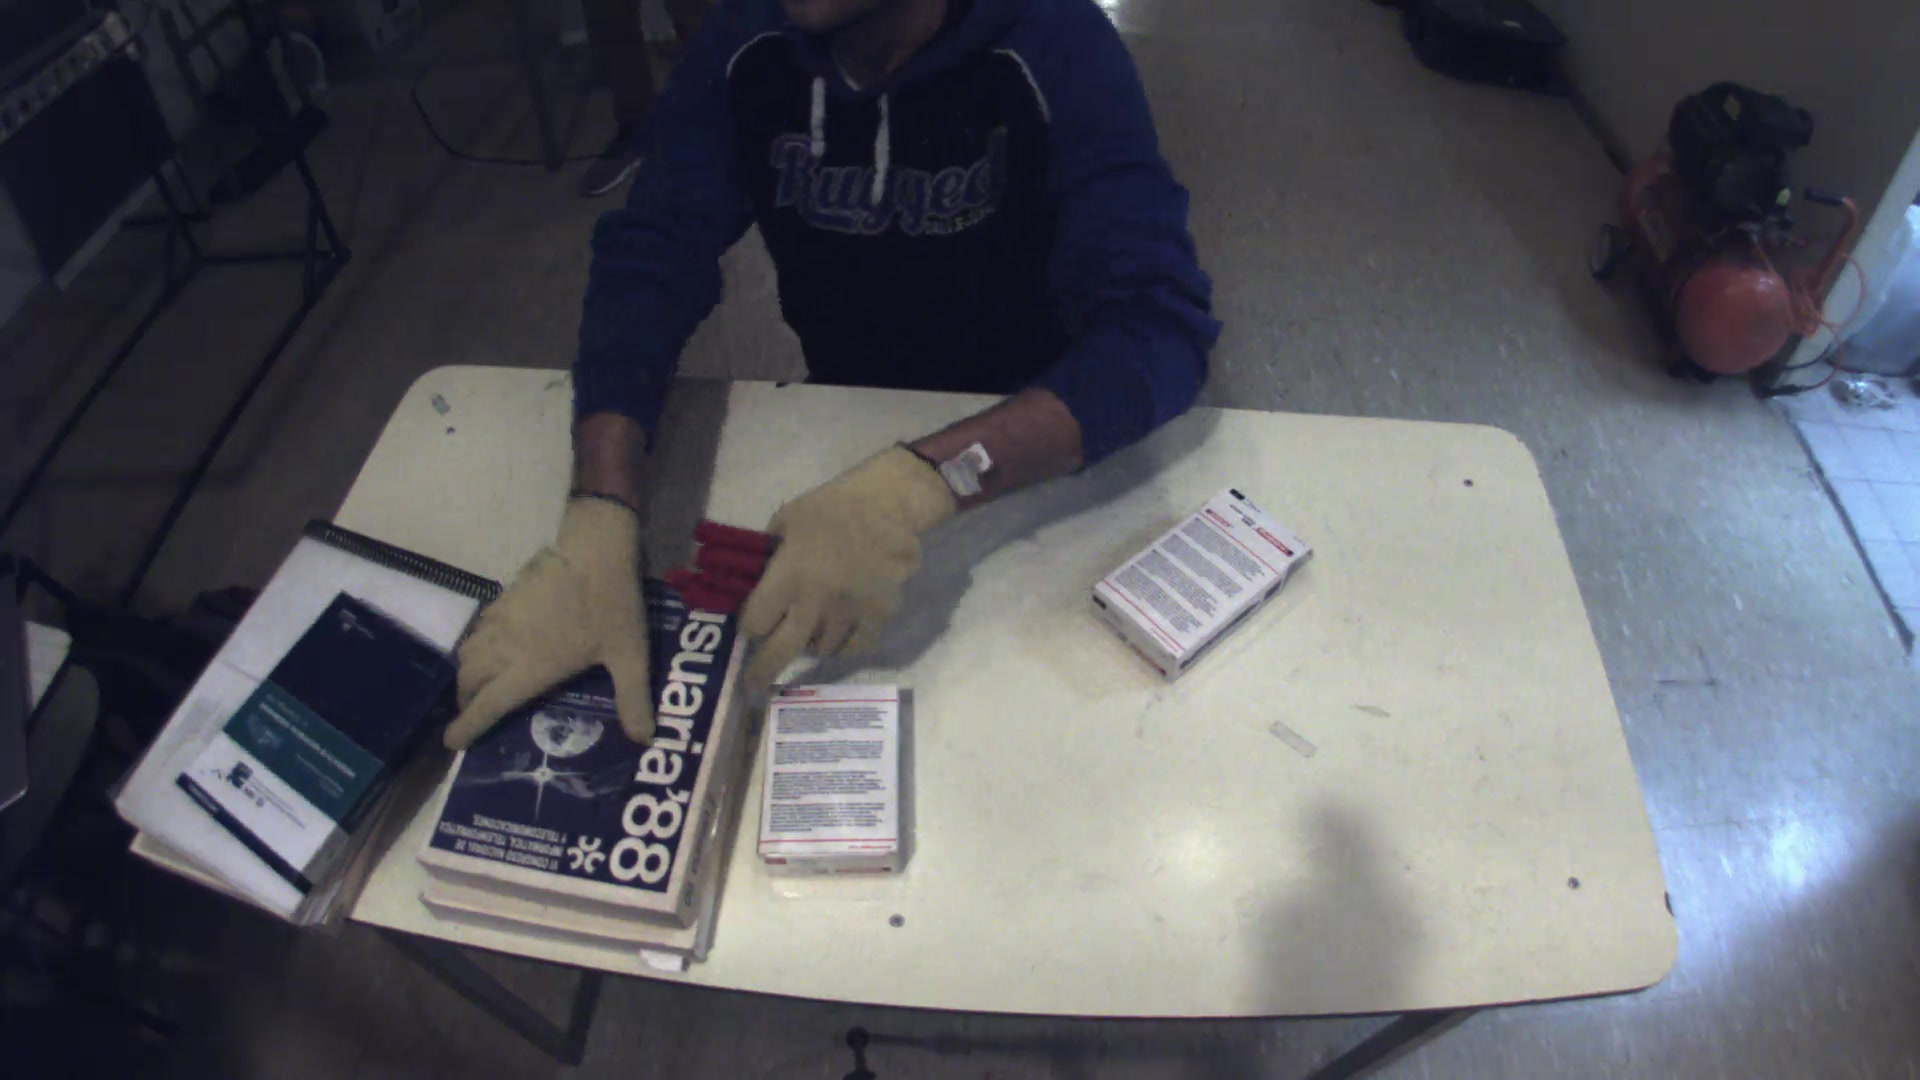hand: (731, 436, 960, 683), (426, 501, 644, 757)
